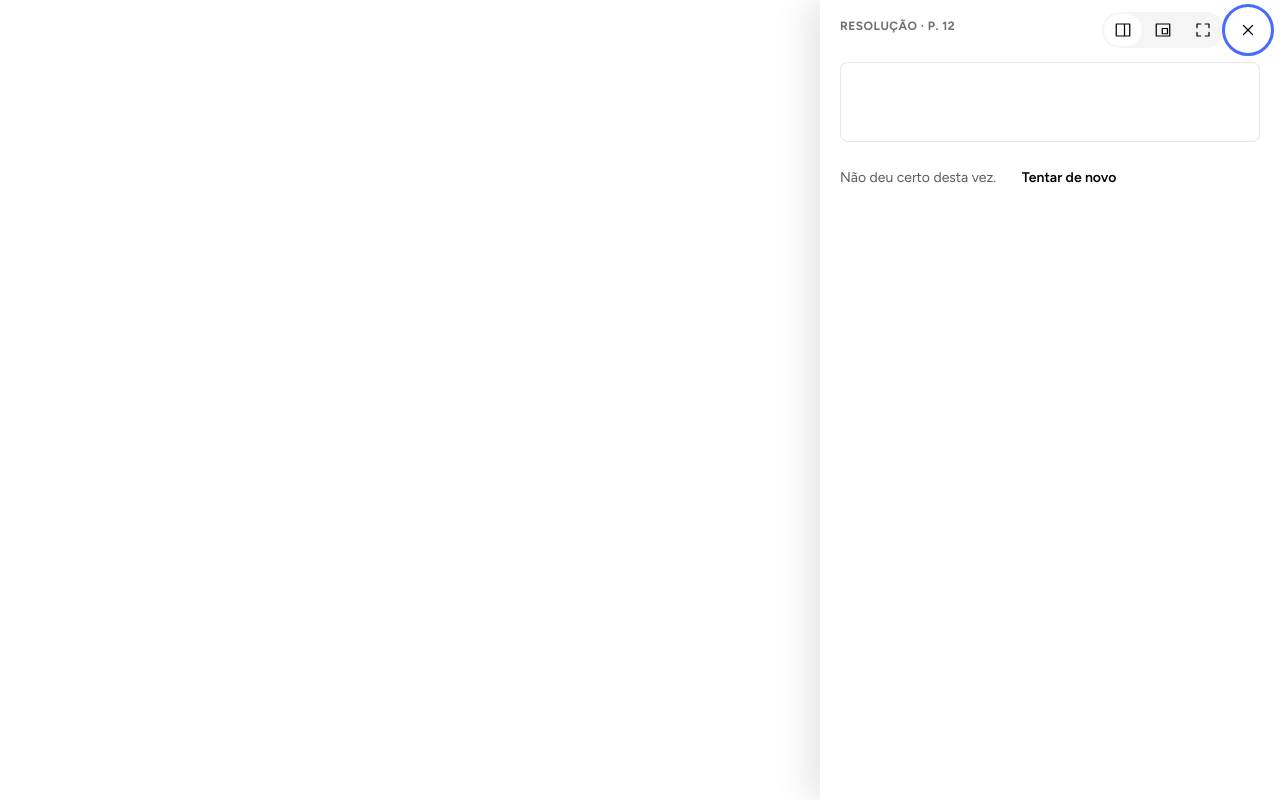
I-11: Tentar de novo trava enquanto espera e, se o pedido falhar, diz por quê e libera o botão
The image size is (1280, 800).
Click the button "Tentar de novo" at (1069, 178), box [1000,156,1138,200]
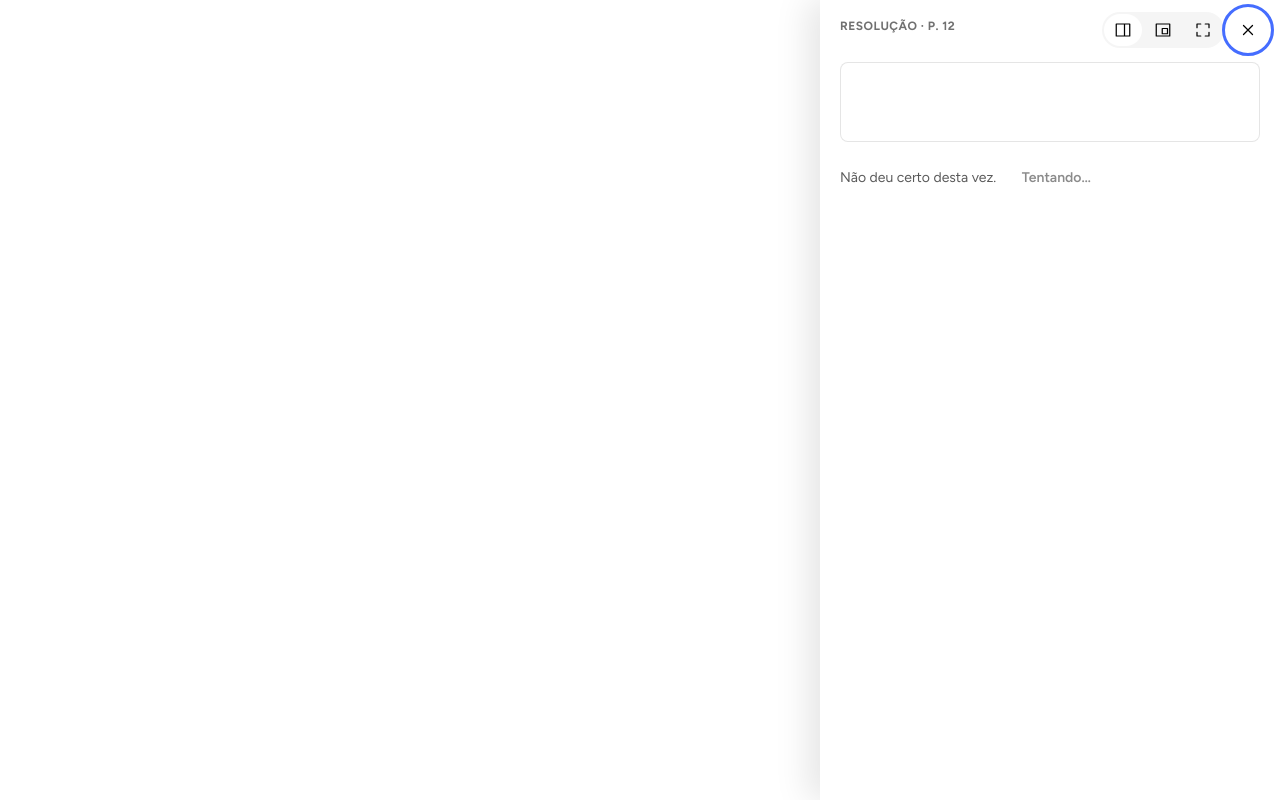
Check: the button "Tentando…" is disabled
Click the button "Tentando…" at (1056, 178), box [1000,156,1113,200]
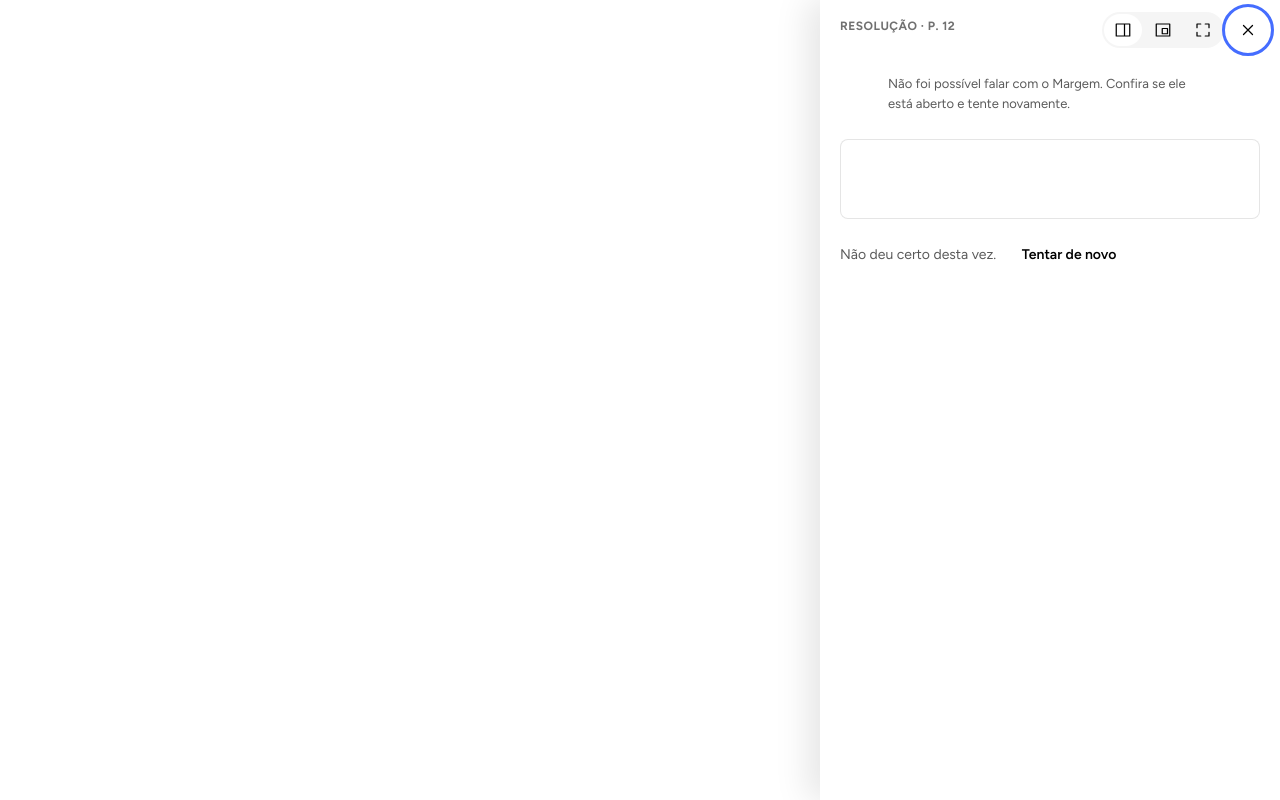
Check: the text "Não foi possível falar com o Margem" is shown, box [888,76,1186,110]
Check: the button "Tentar de novo" is enabled, box [1000,233,1138,277]
